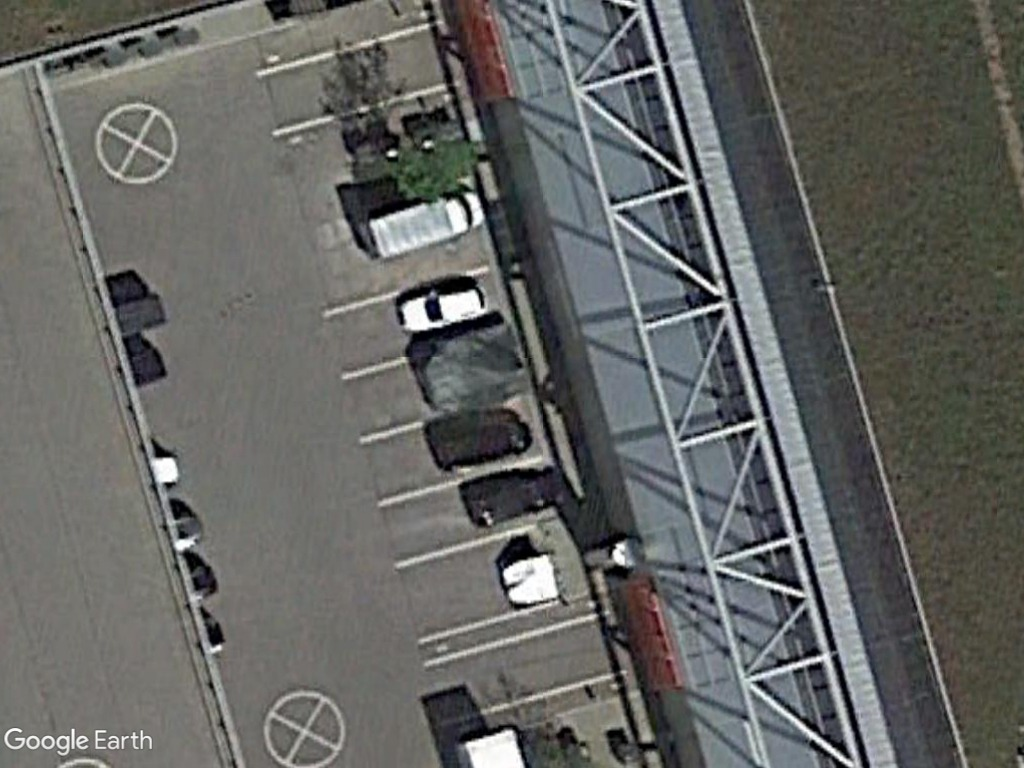car: (392, 279, 490, 335)
van: (359, 187, 485, 267)
